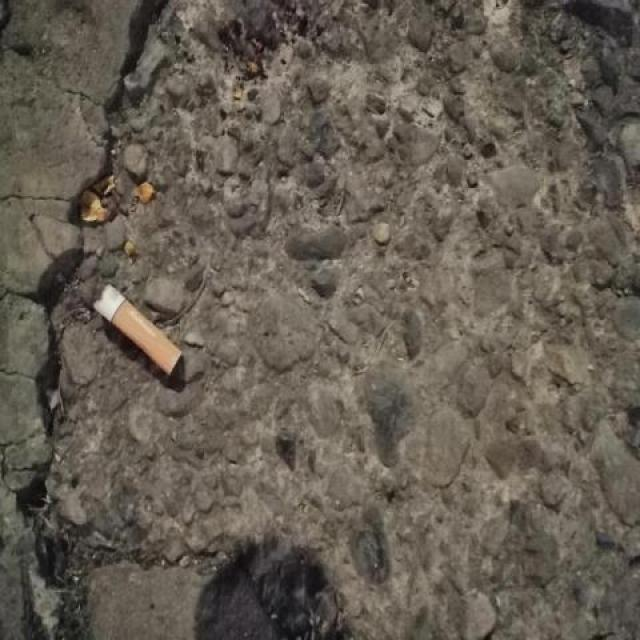non-organic waste: (90, 278, 186, 385)
